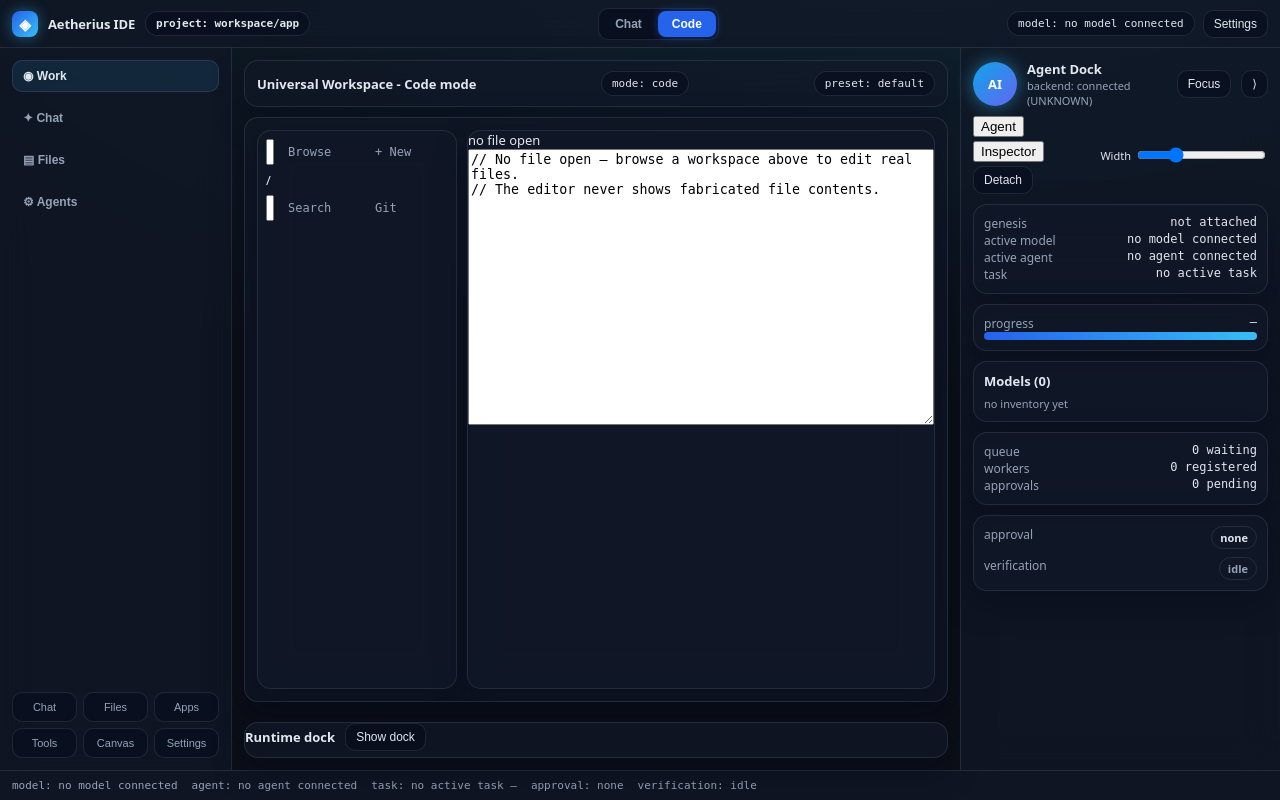
workspace presets › unavailable preset panels render honestly, never fabricated
Check: the text with test id "backend-state" shows "backend:", box [1027,78,1131,108]
Step 1. Click the button with test id "settings-btn" → (1235, 24), box [1203,10,1268,38]
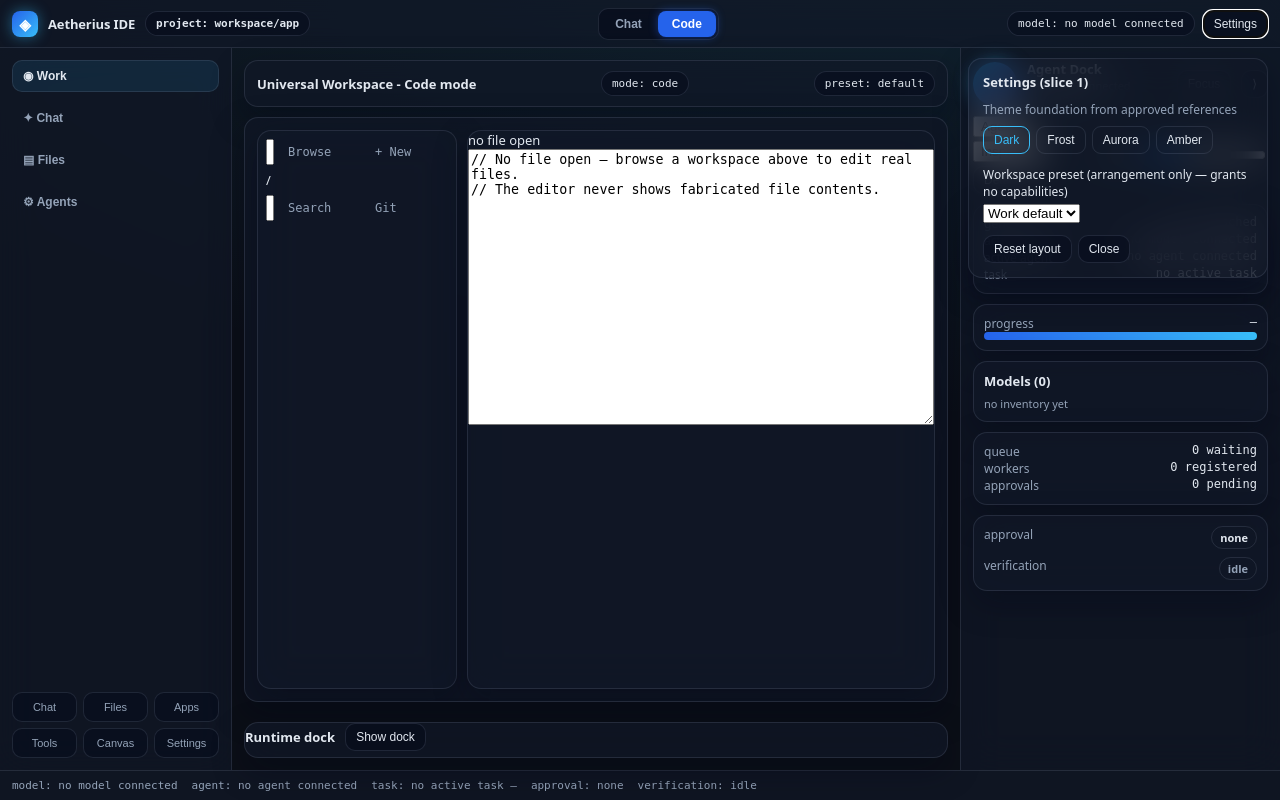
Step 2. Select "Research" in the dropdown with test id "preset-select" → (1032, 214), box [983,204,1080,223]
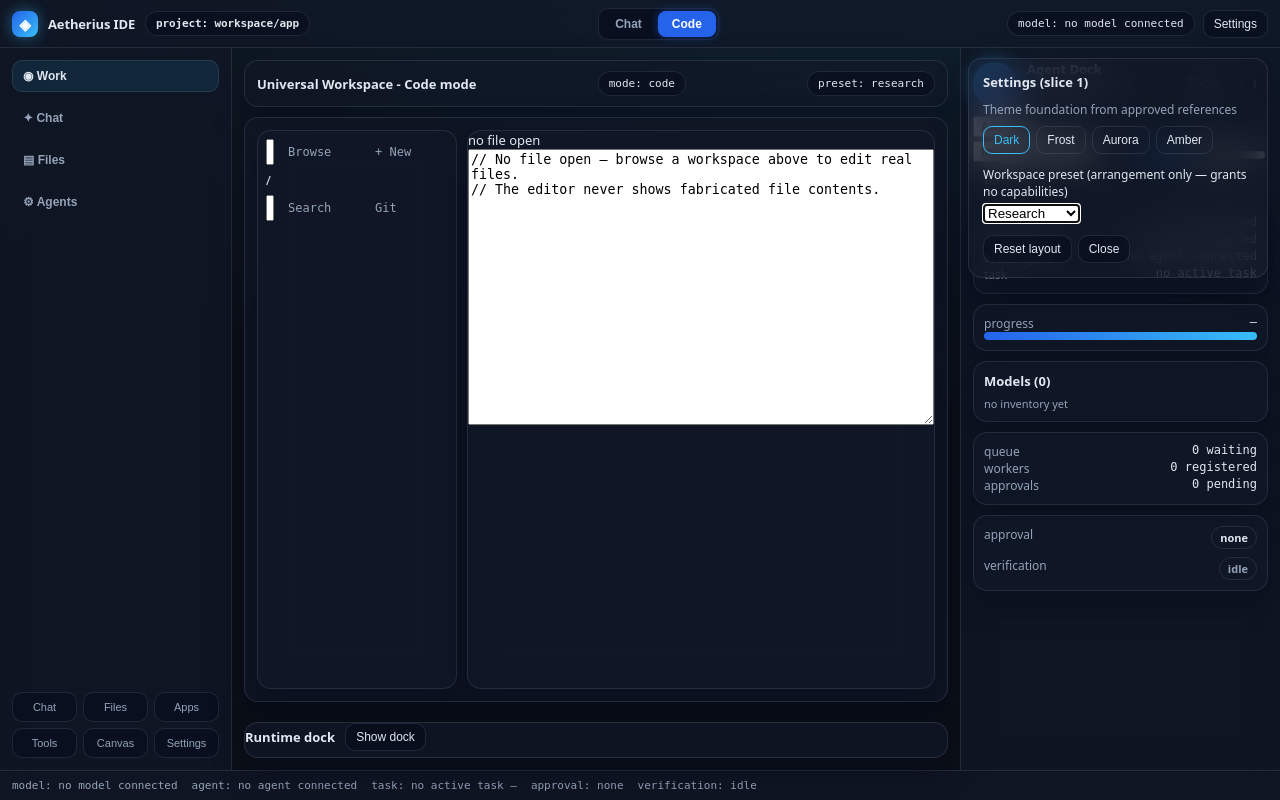
Step 3. Click the button with test id "settings-close" → (1104, 249), box [1078,235,1130,263]
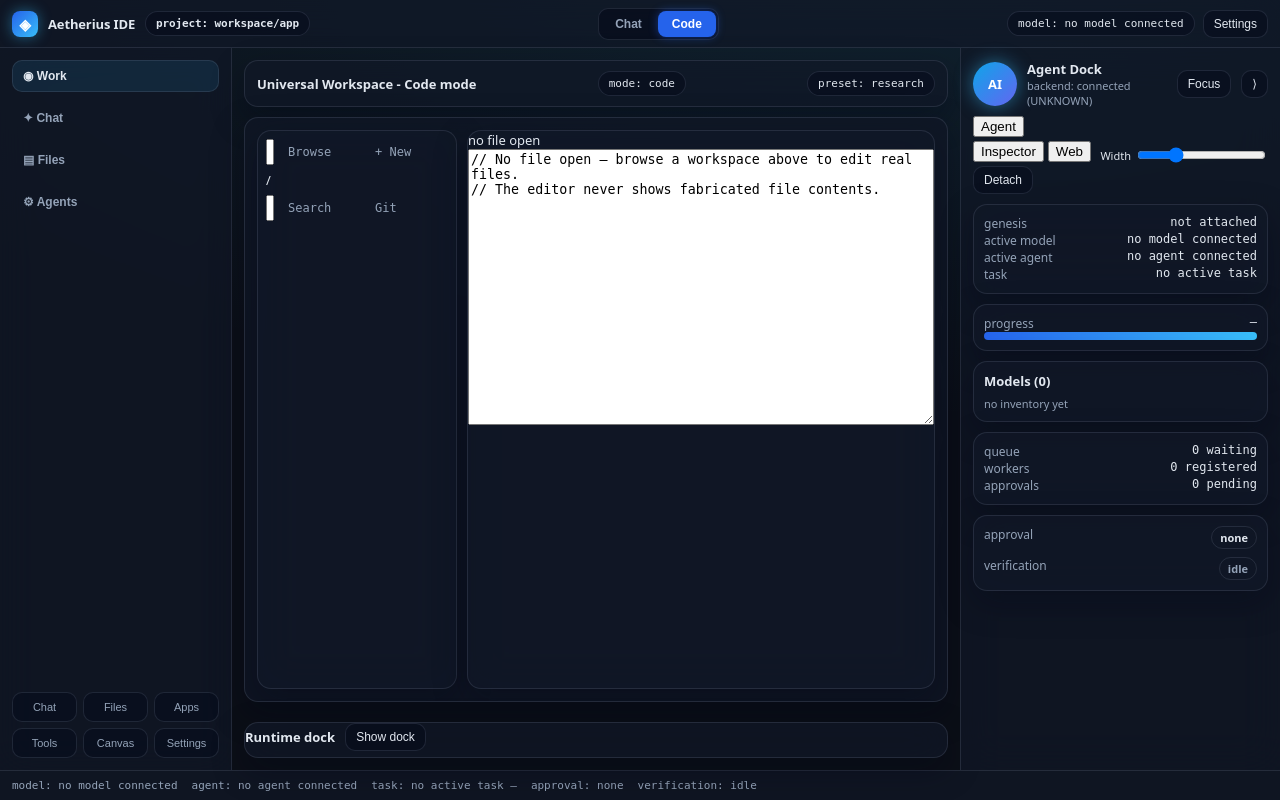
Step 4. Click the tab with test id "sidebar-tab-web" → (1069, 152), box [1048,141,1091,162]
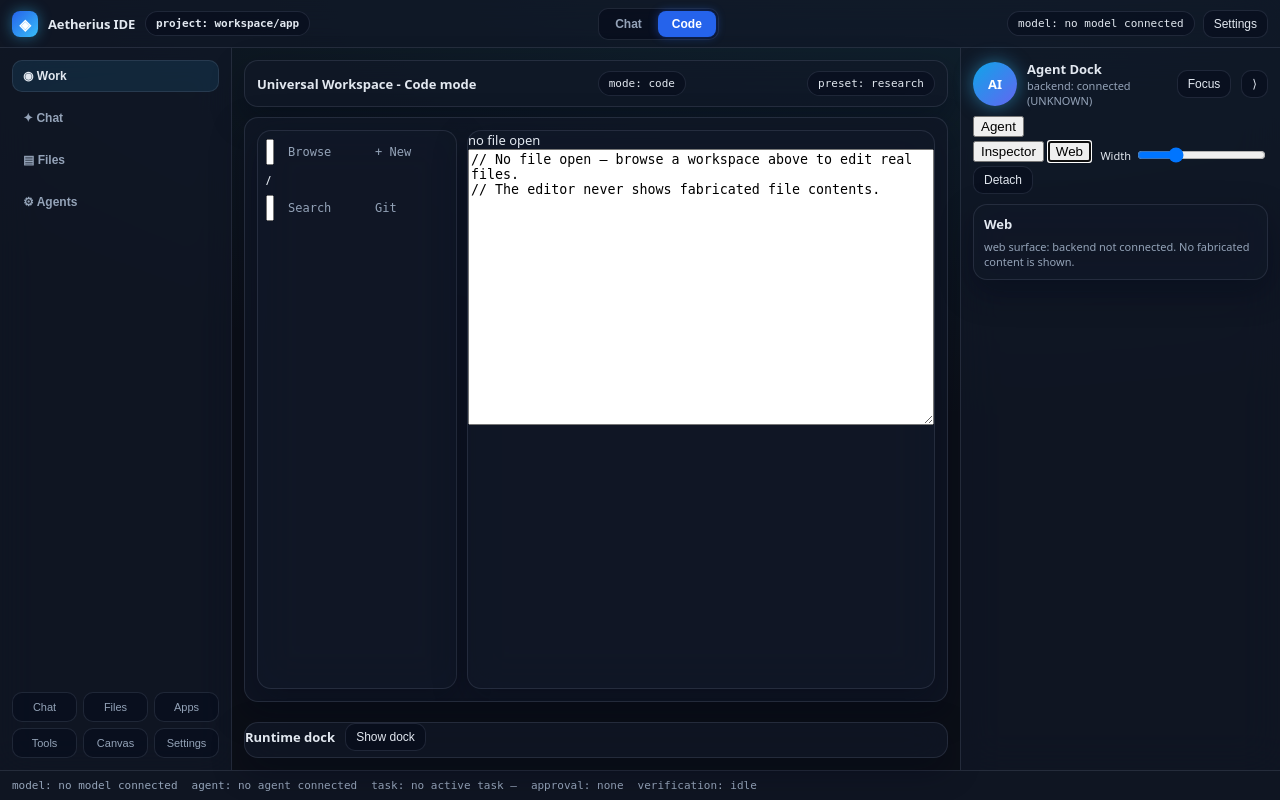
Check: the text with test id "panel-unavailable-web" shows "not connected", box [984,239,1250,269]
